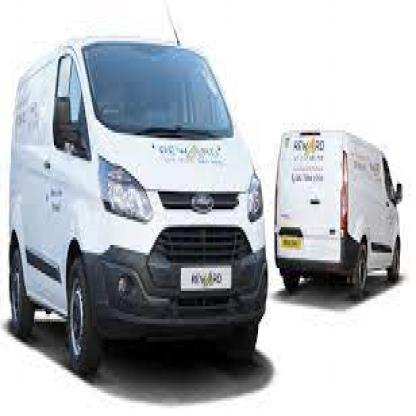van: (5, 33, 269, 373), (274, 123, 405, 296)
